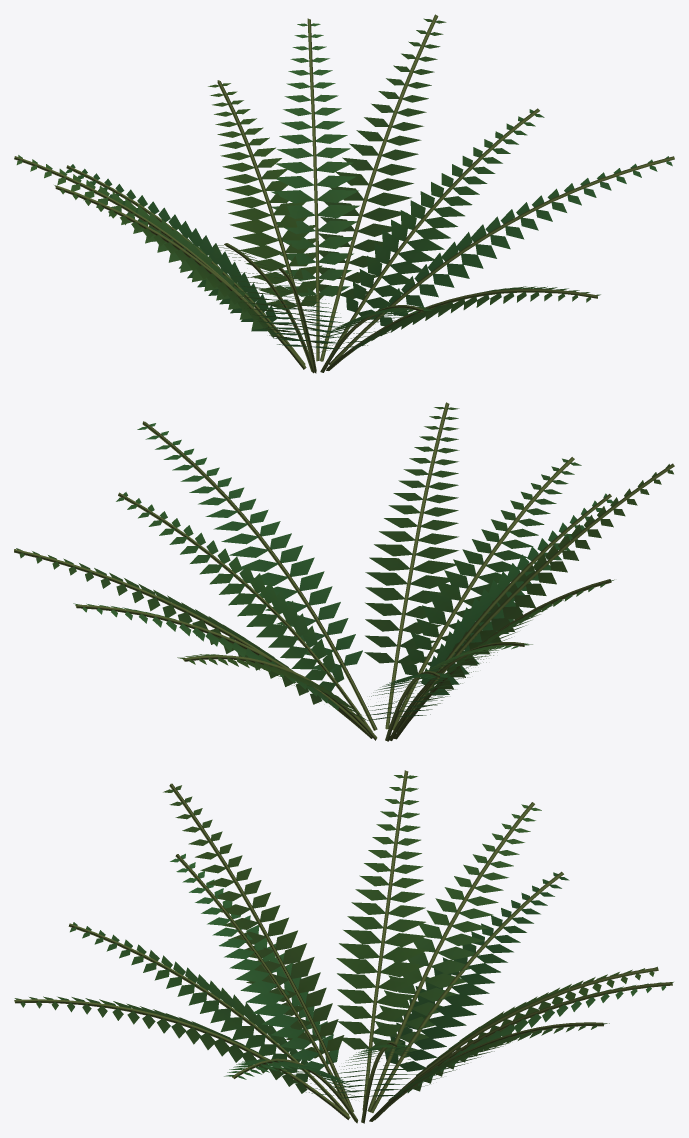
The model's file is fern-sword-a.lod0.glb.
3 views of the same model, one above another, from view 1: azimuth 30°, elevation 25°; view 2: azimuth 150°, elevation 25°; view 3: azimuth 270°, elevation 25° (orthographic). The views are drawn at different scales.
Visible parts, largest first — view 1: fern-sword-a.lod0; view 2: fern-sword-a.lod0; view 3: fern-sword-a.lod0.
Boxes of the visible parts, left/top/right/bottom form: fern-sword-a.lod0: left=14, top=14, right=674, bottom=373; fern-sword-a.lod0: left=14, top=402, right=674, bottom=741; fern-sword-a.lod0: left=14, top=770, right=673, bottom=1123.
Bounding box in the file's own units: 1.4 × 0.5973 × 1.47.
